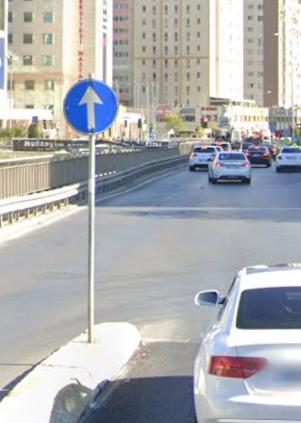forward: (65, 78, 117, 132)
